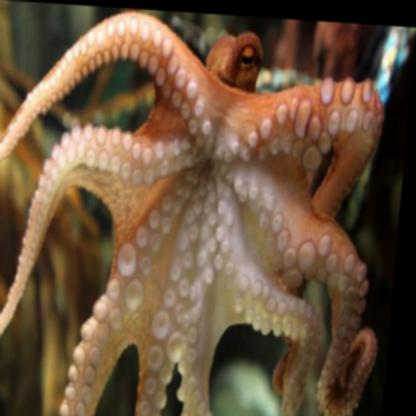Squid: (0, 4, 407, 415)
